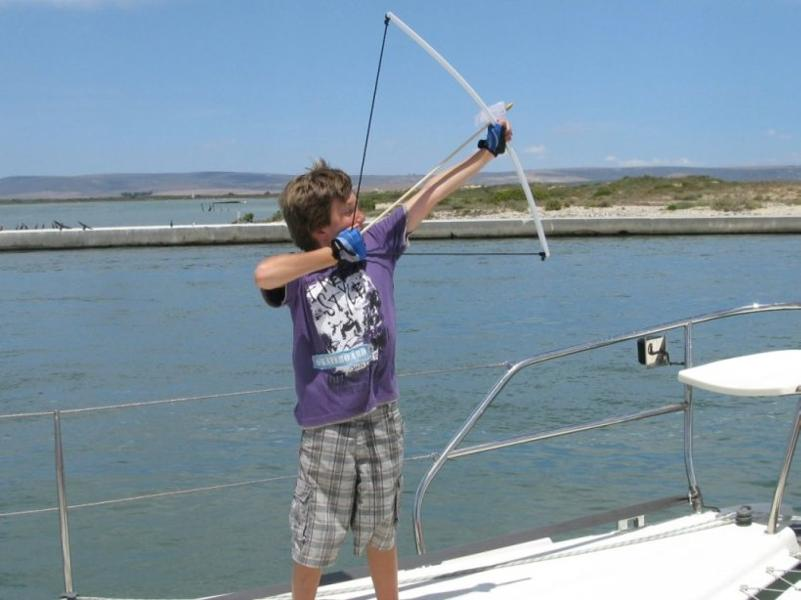person: (256, 112, 512, 600)
